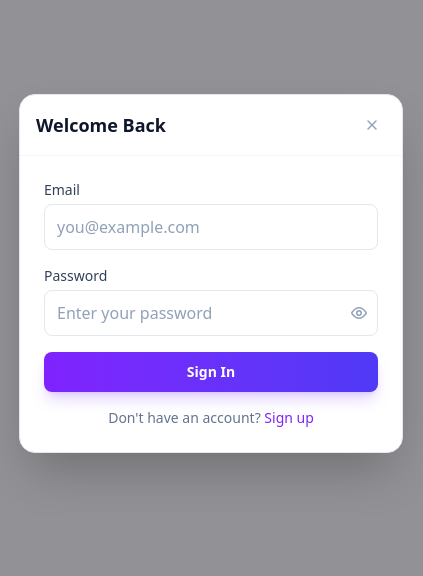
Test case: AuthModal › renders register form when switched
Click the button "Sign up".
click(289, 418)  # box [264, 408, 314, 428]
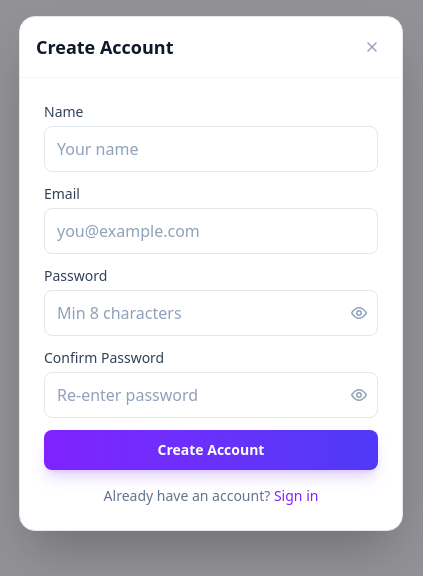
Expected: the heading "Create Account" is shown, [36, 32, 174, 60]
